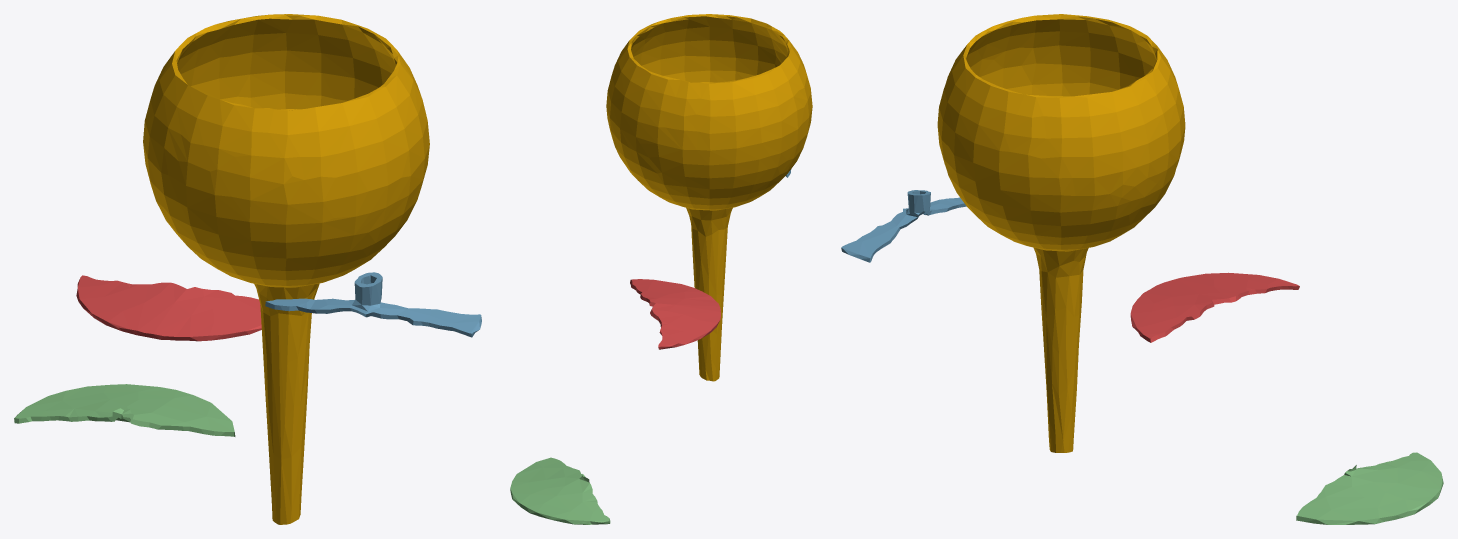
Rendered from fractured_51_4pcs_transformed.glb.
3 views of the same model, side by side, from view 1: azimuth 30°, elevation 25°; view 2: azimuth 150°, elevation 25°; view 3: azimuth 270°, elevation 25° (orthographic). The views are drawn at different scales.
Visible parts, largest first — view 1: piece_0.obj, piece_1.obj, piece_3.obj, piece_2.obj; view 2: piece_0.obj, piece_3.obj, piece_1.obj; view 3: piece_0.obj, piece_3.obj, piece_1.obj, piece_2.obj.
Part boxes in pixels (<box>): piece_0.obj: <box>143,14,429,524</box>; piece_1.obj: <box>76,275,261,341</box>; piece_3.obj: <box>14,384,235,436</box>; piece_2.obj: <box>265,272,481,337</box>; piece_0.obj: <box>606,14,812,381</box>; piece_3.obj: <box>510,457,610,524</box>; piece_1.obj: <box>630,279,720,349</box>; piece_0.obj: <box>937,14,1185,452</box>; piece_3.obj: <box>1296,452,1443,524</box>; piece_1.obj: <box>1130,272,1299,342</box>; piece_2.obj: <box>841,190,966,262</box>.
Bounding box in the file's own units: 0.5232 × 1 × 1.27.
